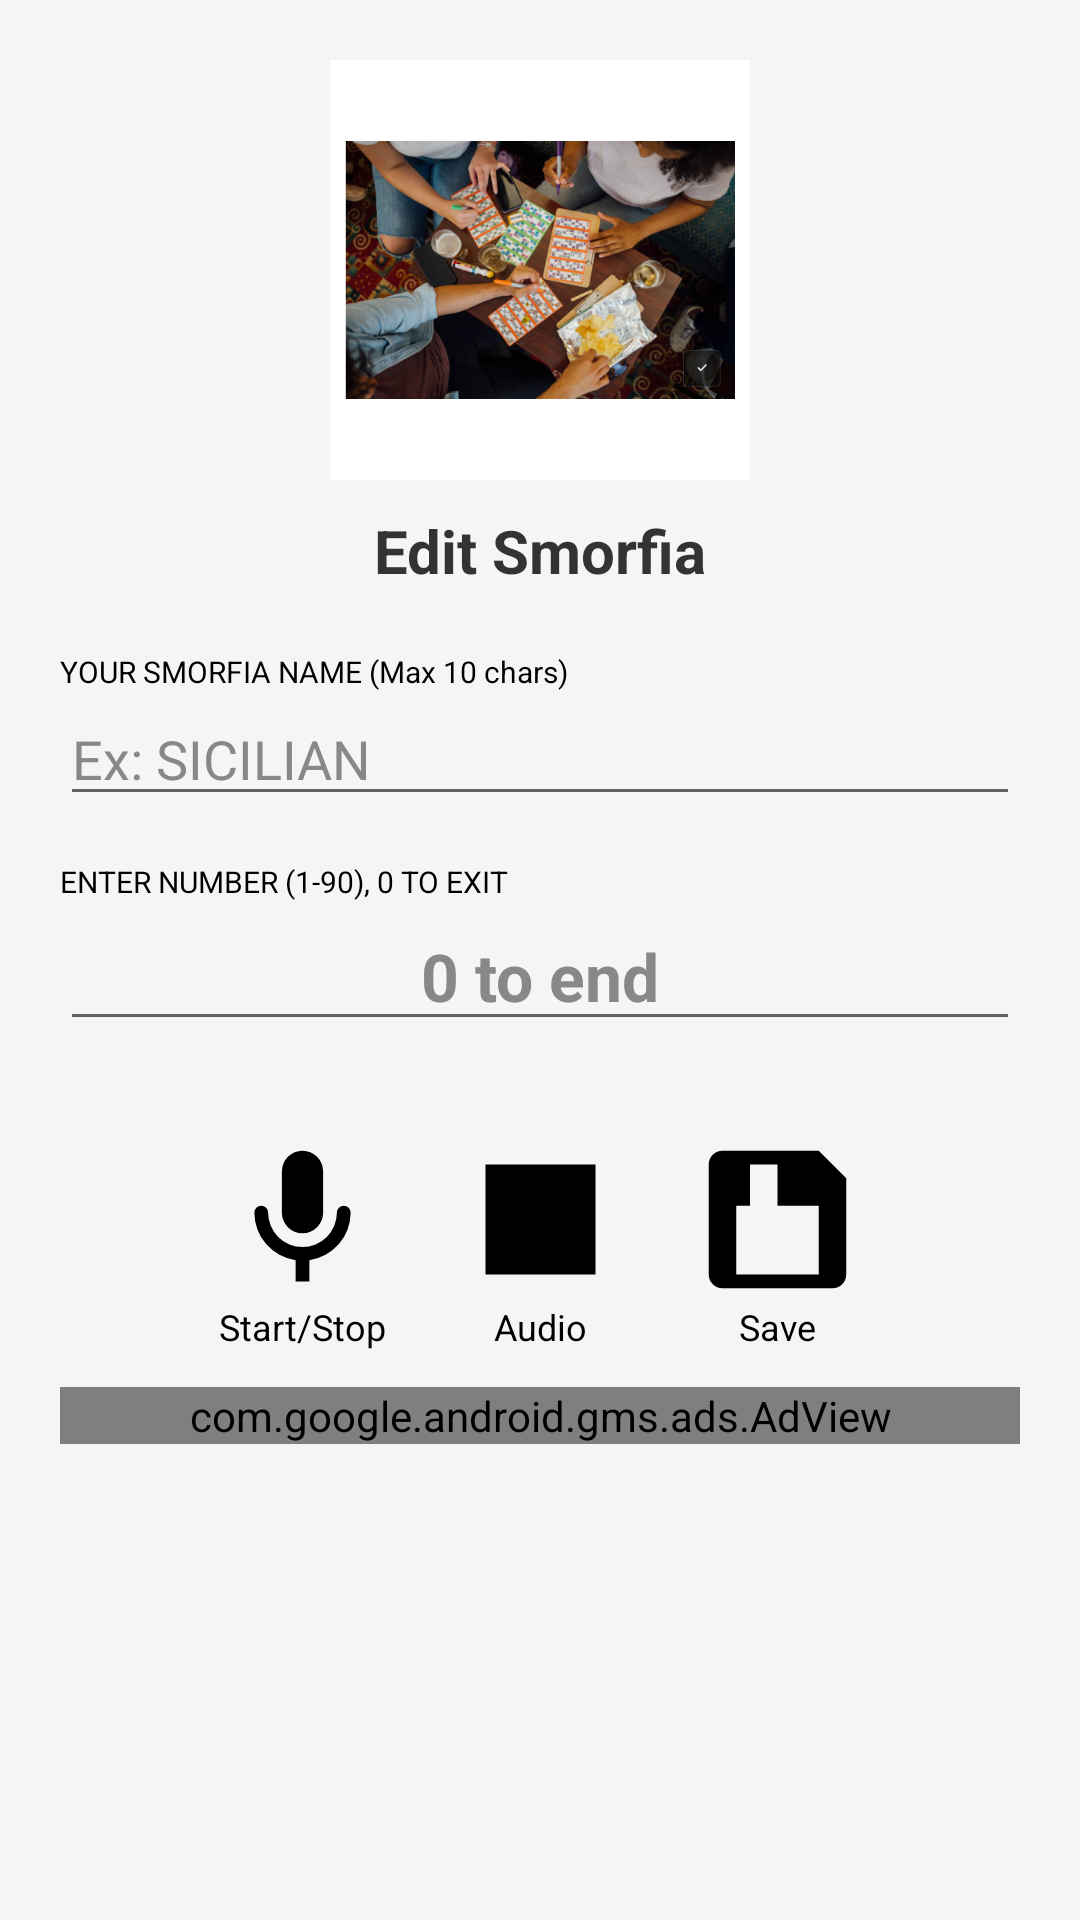

Icons on this 1080×1920 Android screen, each with its box as [left=x1, top=y1, right=x2, bottom=y2]:
Record: [left=254, top=1150, right=351, bottom=1282]
